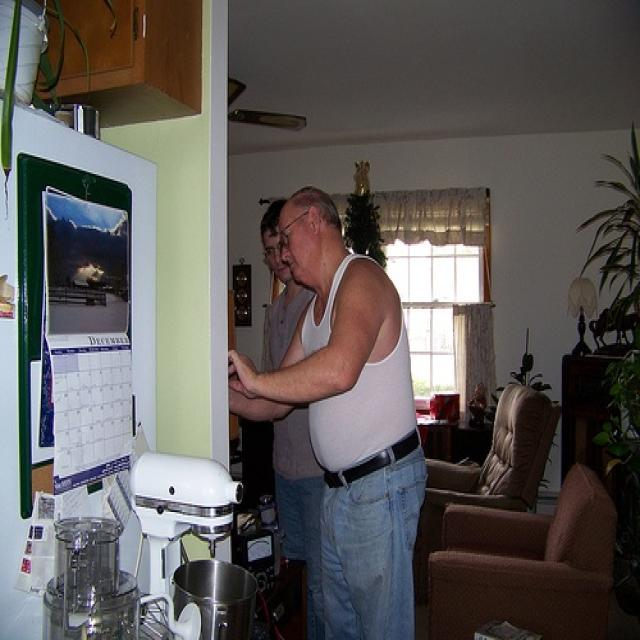chair: (419, 382, 563, 612), (427, 466, 617, 640)
person: (230, 187, 427, 639), (229, 199, 326, 639)
pottedplant: (577, 121, 640, 355), (601, 358, 640, 621)
